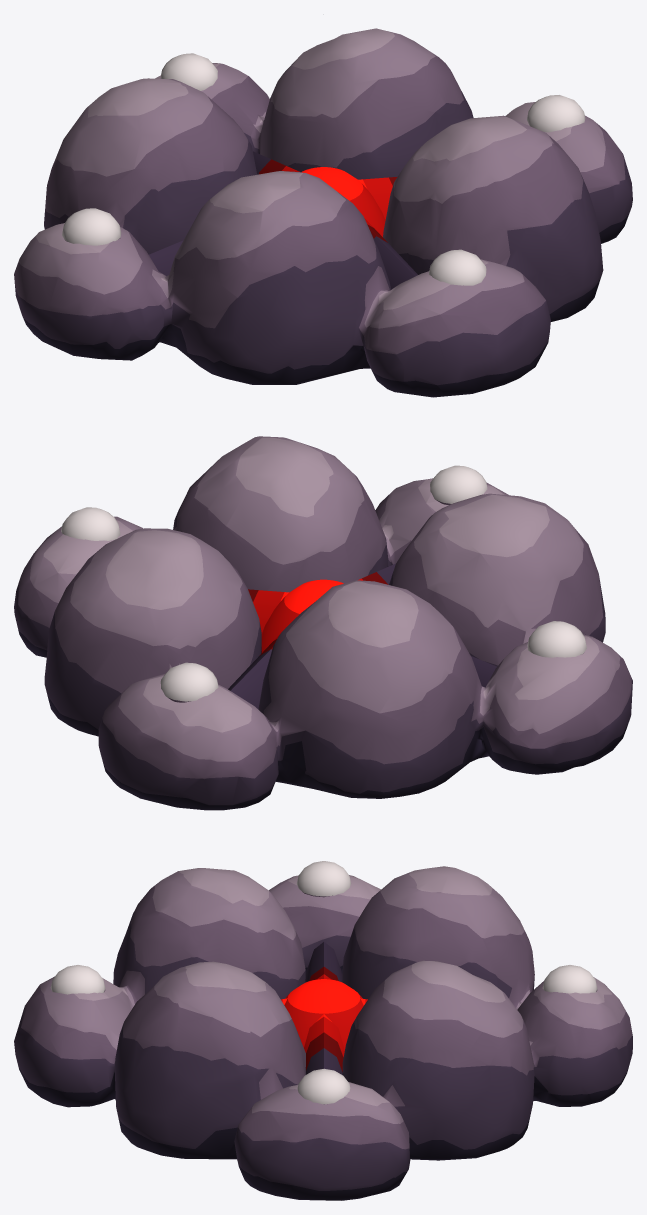
Rendered from botany_stone_155.glb.
The picture shows the model from 3 angles, top to bottom: view 1: azimuth 30°, elevation 25°; view 2: azimuth 150°, elevation 25°; view 3: azimuth 270°, elevation 25°; orthographic projection. The views are drawn at different scales.
Visible parts, largest first — view 1: stone, core, bead1, bead3, bead2, bead0, arm3, arm0, arm2; view 2: stone, core, bead0, bead1, bead2, bead3, arm1, arm0; view 3: stone, core, arm0, bead1, bead3, bead2, bead0, arm2.
Boxes of the visible parts, x1,y1,x2,y2 form: stone: (14, 28, 632, 397); core: (301, 167, 385, 236); bead1: (62, 208, 121, 245); bead3: (527, 95, 585, 132); bead2: (429, 249, 486, 285); bead0: (160, 53, 217, 90); arm3: (364, 218, 417, 289); arm0: (358, 177, 397, 220); arm2: (149, 240, 183, 276); stone: (14, 436, 632, 810); core: (261, 579, 343, 652); bead0: (160, 662, 218, 702); bead1: (527, 621, 586, 657); bead2: (430, 465, 487, 504); bead3: (61, 507, 120, 540); arm1: (228, 633, 280, 708); arm0: (248, 589, 288, 633); stone: (14, 866, 632, 1200); core: (284, 979, 363, 1049); arm0: (304, 1014, 344, 1074); bead1: (296, 861, 351, 897); bead3: (297, 1068, 350, 1104); bead2: (50, 965, 105, 994); bead0: (542, 965, 597, 993); arm2: (305, 942, 342, 982).
Size of the model in its own units: 17.89 by 7.6 by 17.99.
